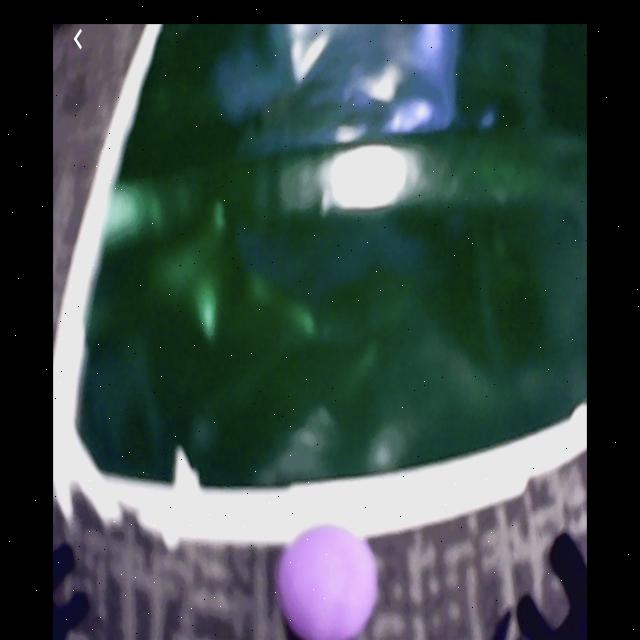ball: (279, 527, 371, 640)
